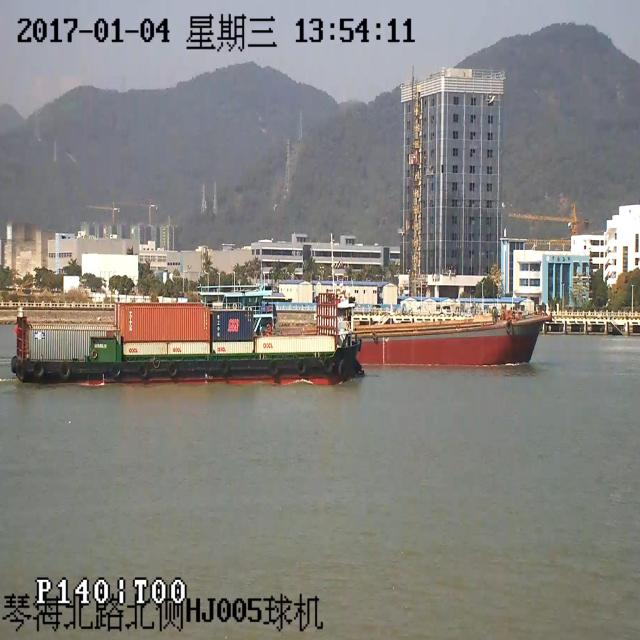cargoship: (19, 268, 355, 377), (364, 266, 547, 371)
